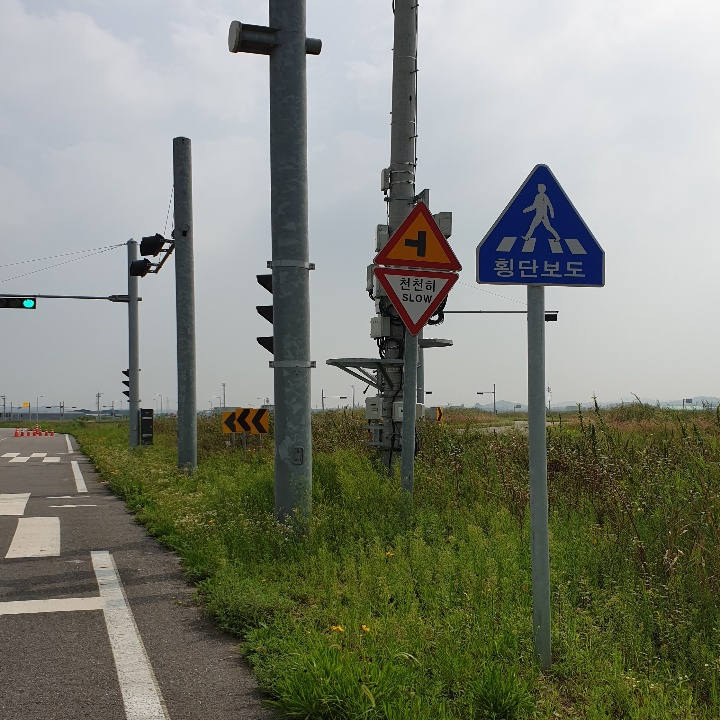cross: (513, 173, 568, 248)
